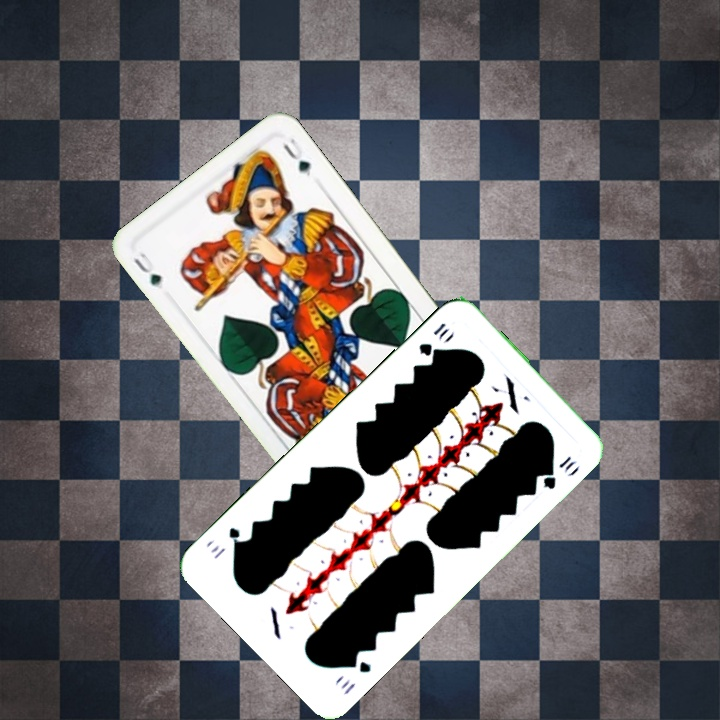G10: (336, 653, 374, 698), (414, 318, 453, 359)
GU: (129, 246, 164, 288)
